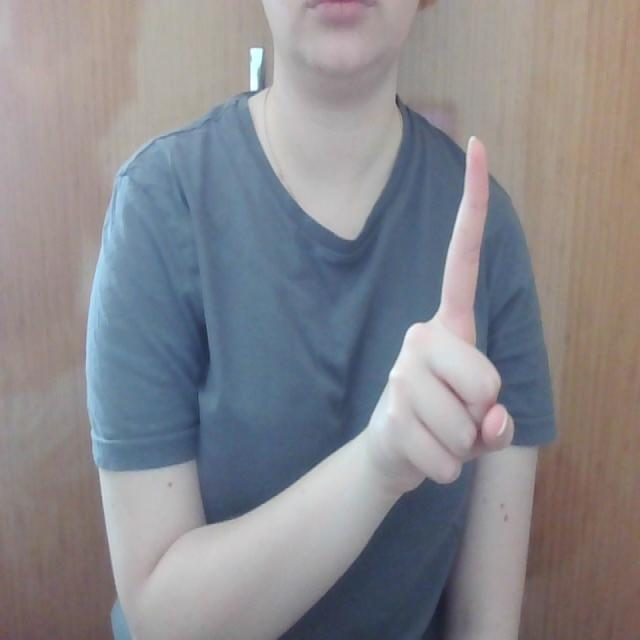Hayir: (371, 104, 528, 507)
